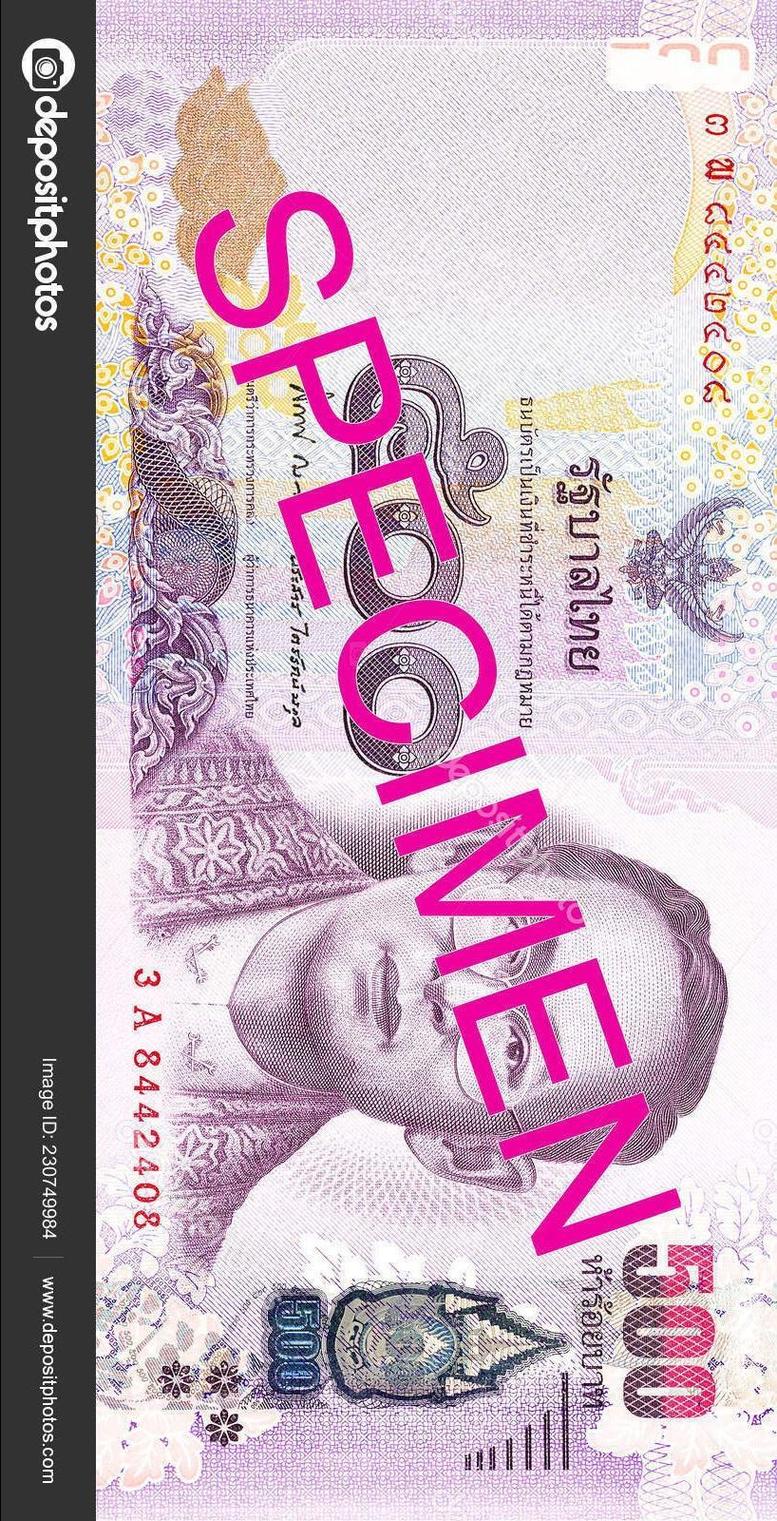500BahtTai: (96, 0, 777, 1521)
